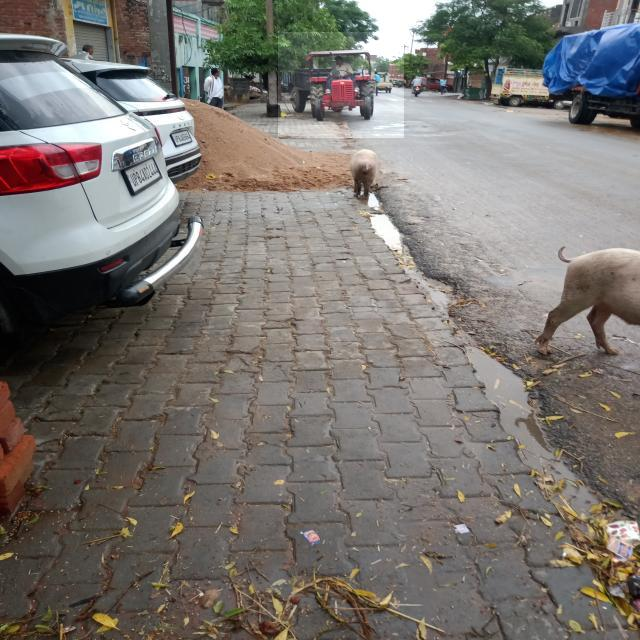Tractot: (278, 32, 404, 138)
